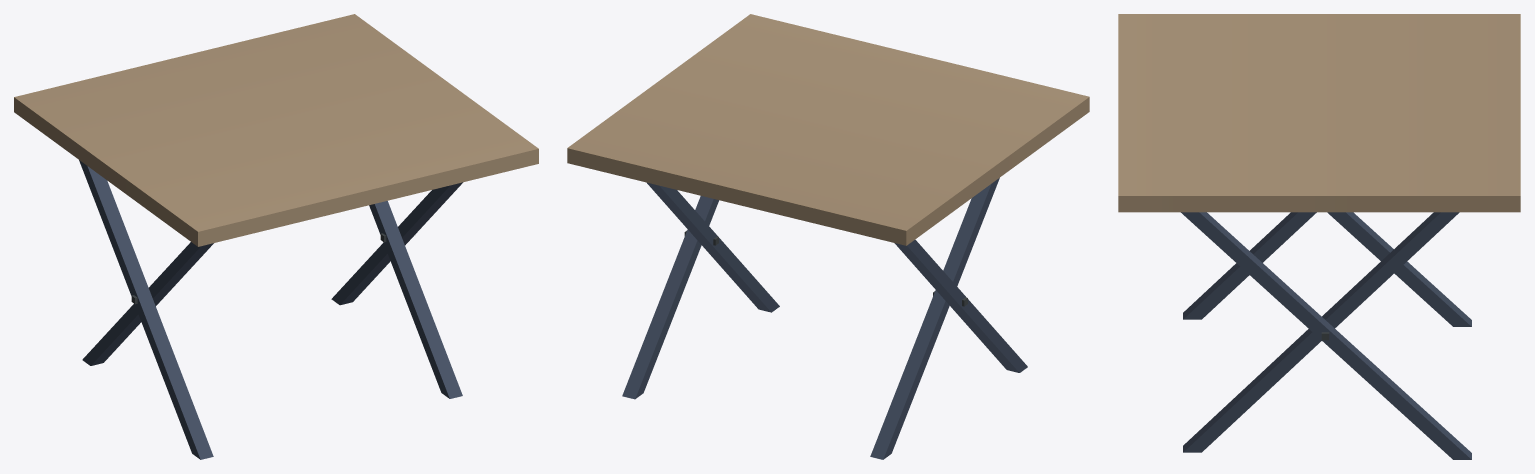
File: SM_Table_01.fbx
3 views of the same model, side by side, from view 1: azimuth 30°, elevation 25°; view 2: azimuth 150°, elevation 25°; view 3: azimuth 270°, elevation 25° (orthographic). The views are drawn at different scales.
Parts seen in each view (by area): view 1: SM_Table_01; view 2: SM_Table_01; view 3: SM_Table_01.
Boxes of the visible parts, x1,y1,x2,y2 form: SM_Table_01: (14, 14, 538, 459); SM_Table_01: (567, 14, 1089, 459); SM_Table_01: (1118, 14, 1520, 459).
Bounding box in the file's own units: 101 × 72.84 × 94.37.
1 material, 1 textured.
